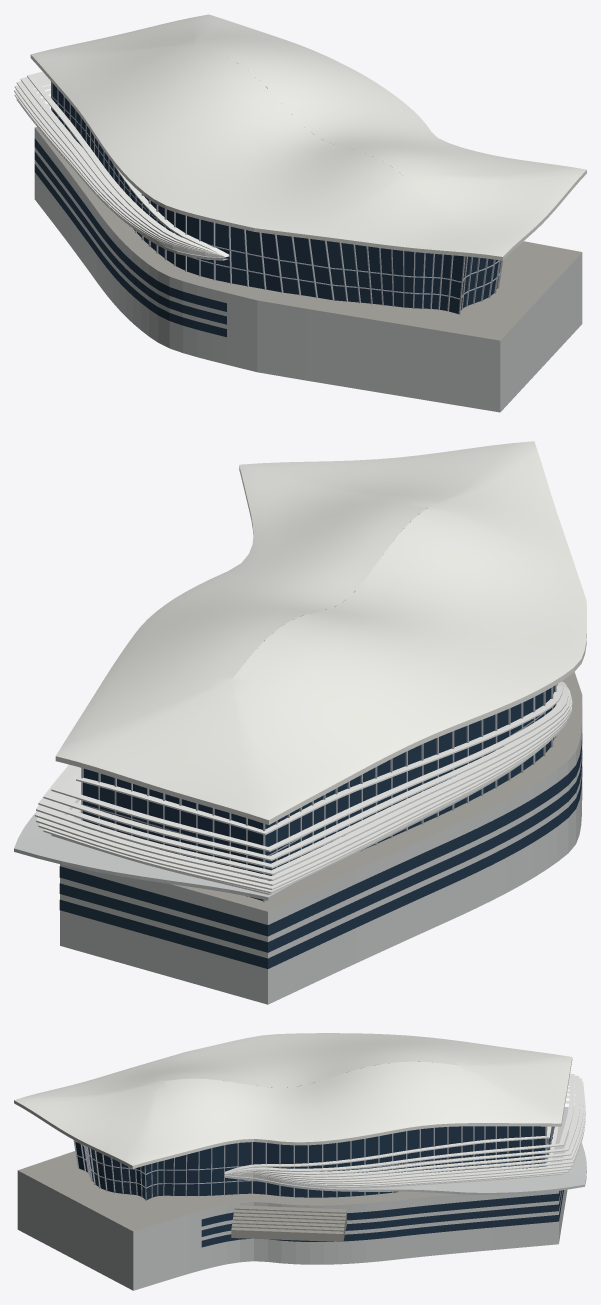
The model's file is opera.glb.
3 renders of one model, top to bottom at view 1: azimuth 30°, elevation 25°; view 2: azimuth 150°, elevation 25°; view 3: azimuth 270°, elevation 25°, orthographic. The views are drawn at different scales.
Visible parts, largest first — view 1: opera_roof_s, opera_wall2, opera_glass, opera_stone, opera_trim, opera_metal, opera_roof; view 2: opera_roof_s, opera_wall2, opera_glass, opera_trim, opera_stone, opera_roof, opera_metal; view 3: opera_roof_s, opera_wall2, opera_glass, opera_stone, opera_trim, opera_metal, opera_roof.
Part boxes in pixels (x1,y1,x2,y2): opera_roof_s: (31, 14, 586, 256); opera_wall2: (34, 128, 582, 412); opera_glass: (34, 83, 501, 337); opera_stone: (35, 127, 581, 340); opera_trim: (14, 71, 229, 257); opera_metal: (51, 81, 502, 314); opera_roof: (30, 54, 586, 260); opera_roof_s: (56, 441, 586, 819); opera_wall2: (14, 684, 582, 1004); opera_glass: (59, 514, 582, 968); opera_trim: (35, 681, 572, 894); opera_stone: (170, 672, 582, 911); opera_roof: (55, 466, 586, 824); opera_metal: (81, 684, 557, 902); opera_roof_s: (14, 1033, 572, 1165); opera_wall2: (17, 1107, 586, 1290); opera_glass: (75, 1061, 563, 1247); opera_stone: (18, 1151, 456, 1241); opera_trim: (224, 1073, 585, 1188); opera_metal: (73, 1126, 554, 1200); opera_roof: (14, 1058, 572, 1168).
Size of the model in its own units: 124 by 64.01 by 215.
